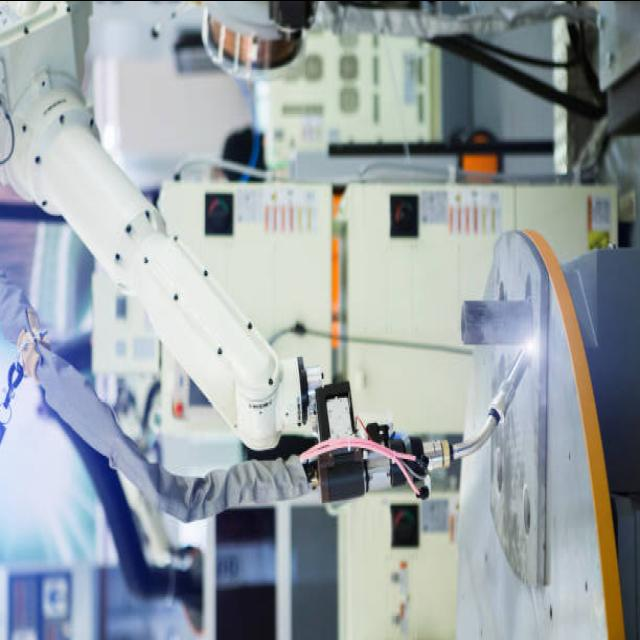Robotic-arm: (0, 0, 472, 488)
